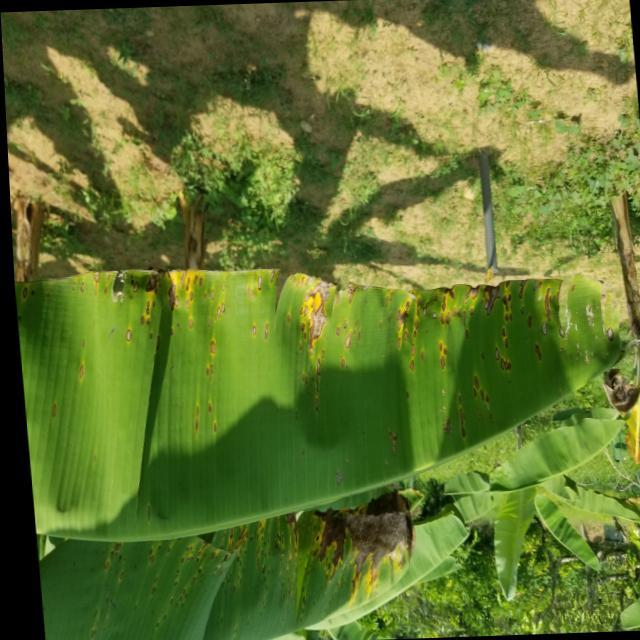Early_rust: (17, 229, 640, 488), (9, 456, 487, 640), (575, 334, 640, 542)
